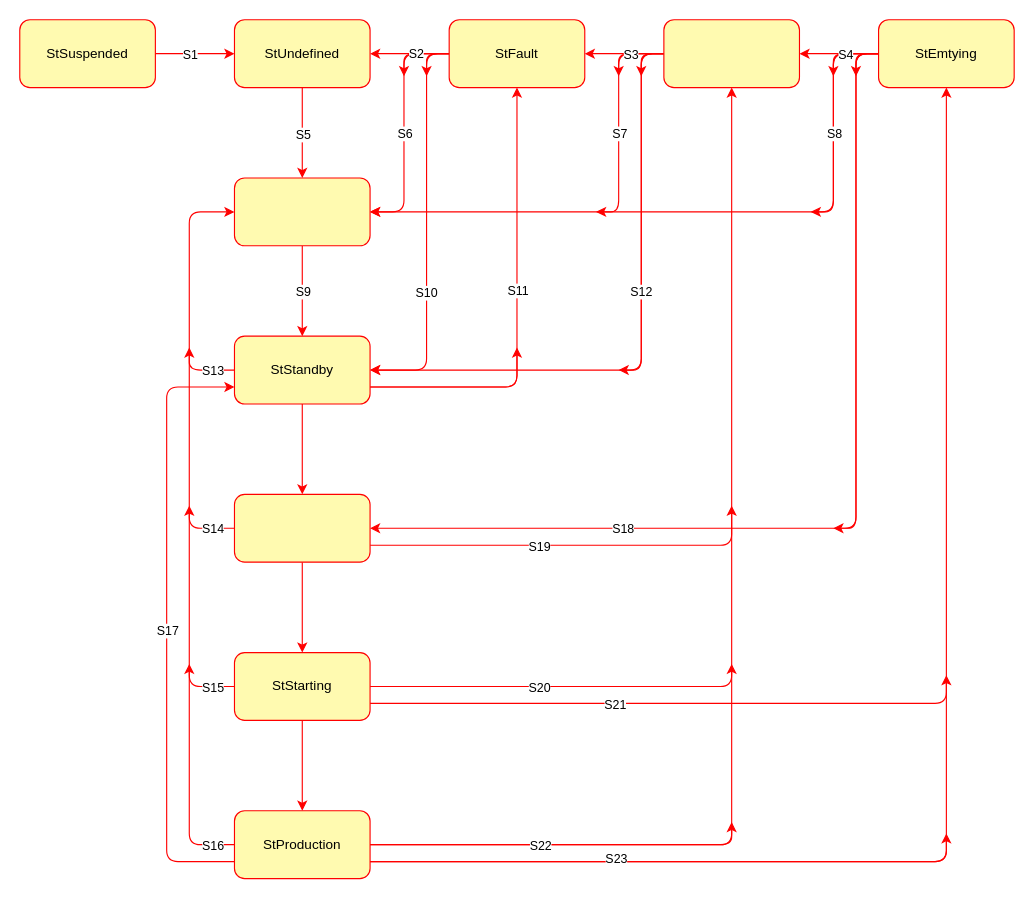
The diagram is 1034 pixels wide and 898 high, and some of its shapes have lost their labels. Here are the shapes that lost their labels. From the top down, the box of each, then its label:
(663, 19, 799, 88): StStopping
(233, 177, 370, 246): StPassive
(233, 493, 370, 562): StChecking
